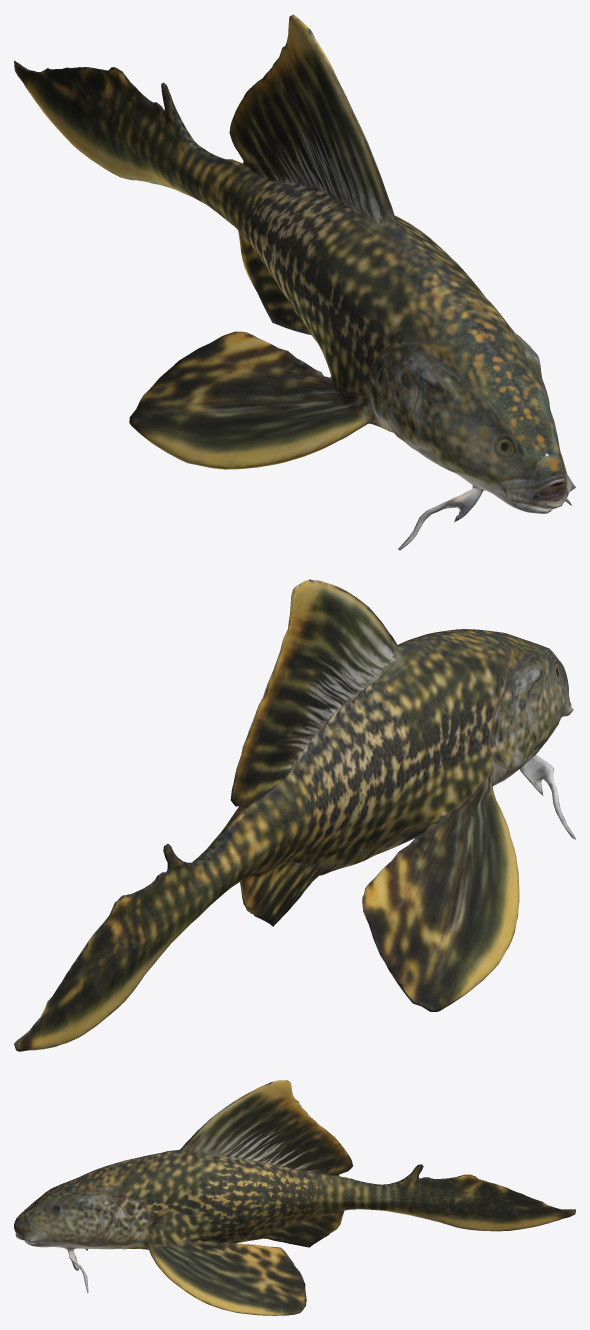
The model's file is sapu_sapu_0604065751_texture.glb.
3 views of the same model, one above another, from view 1: azimuth 30°, elevation 25°; view 2: azimuth 150°, elevation 25°; view 3: azimuth 270°, elevation 25° (orthographic). The views are drawn at different scales.
Bounding box in the file's own units: 0.6741 × 0.7734 × 2.
1 material, 1 textured.
